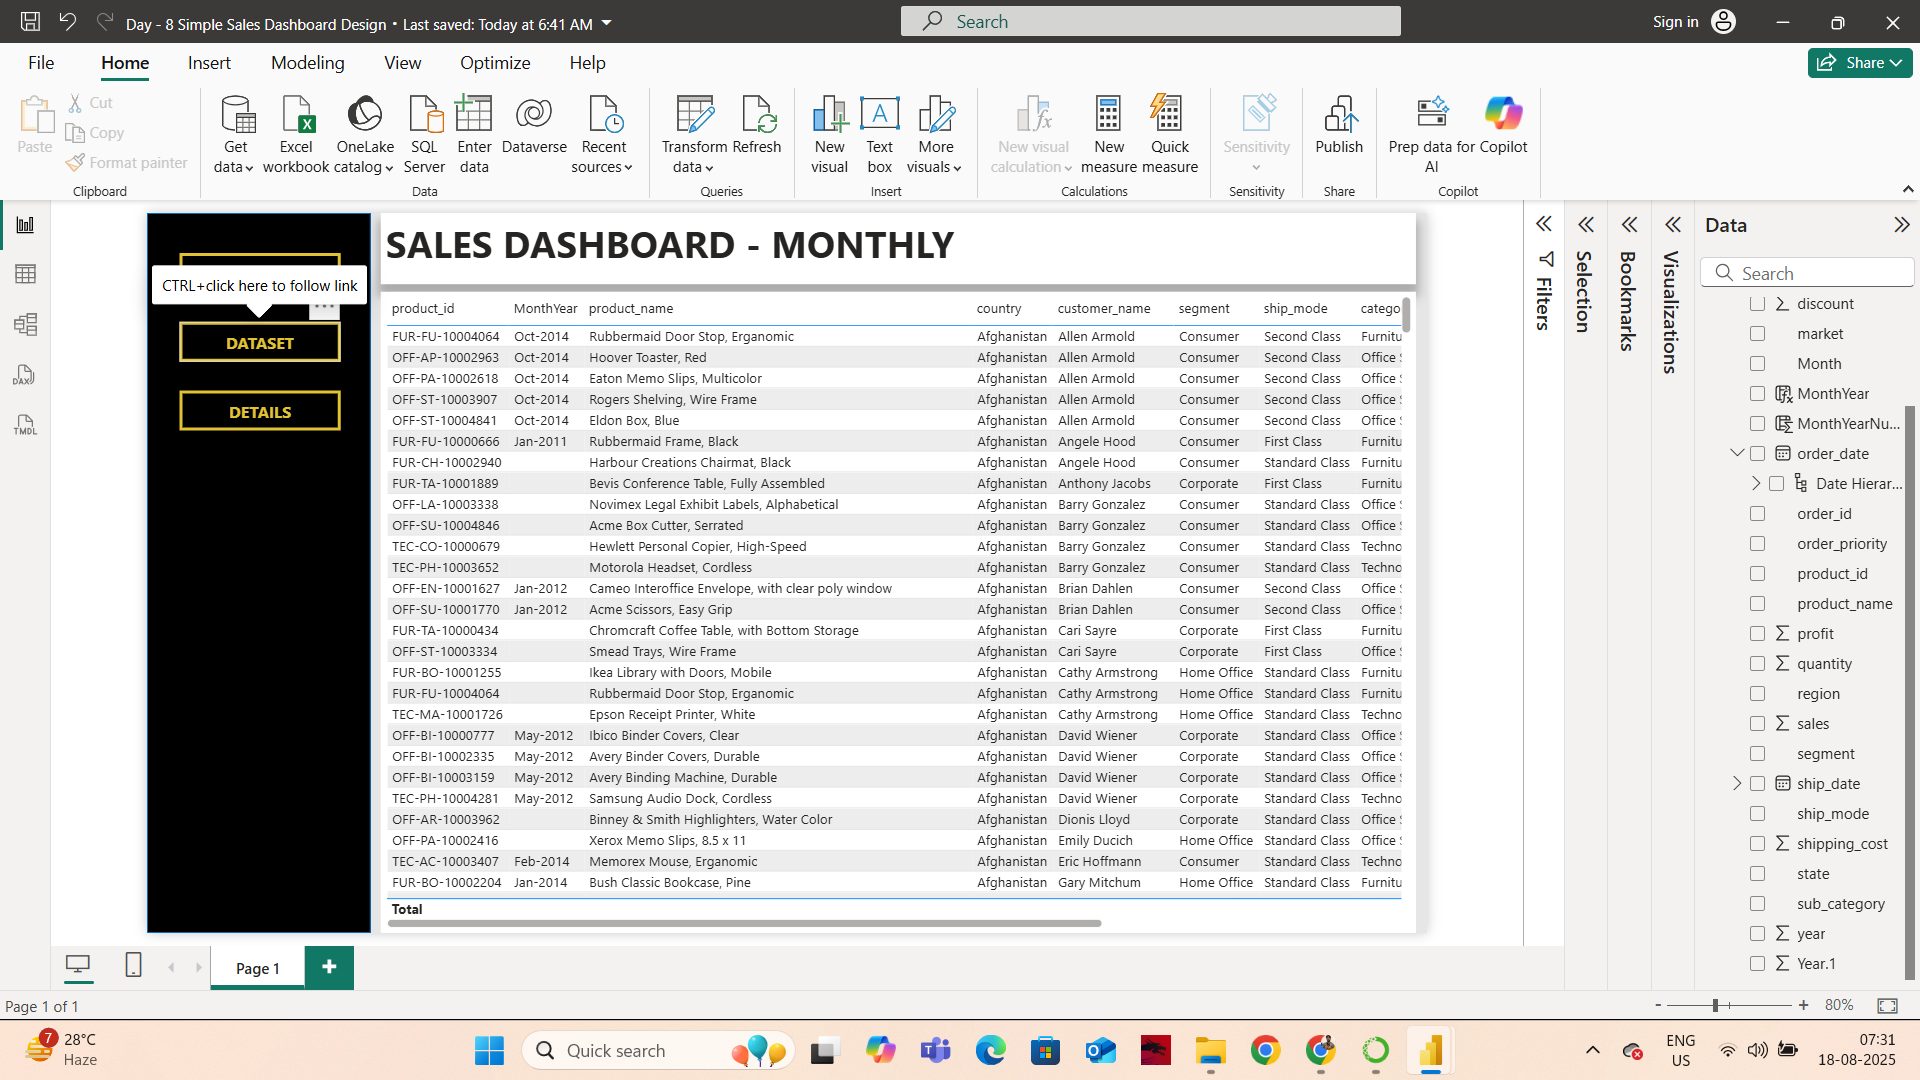

What the dashboard file says about the page in this screenshot:
{"tool":"powerbi","page":{"name":"Page 1","canvas":[1280,720],"ordinal":0},"visuals":[{"type":"shape","box":[0,0,223.8,720],"z":0},{"type":"actionButton","box":[32.5,40,161.2,40],"z":1000},{"type":"actionButton","box":[32.5,108.8,161.2,40],"z":2000},{"type":"textbox","box":[233.8,0,1035,71.2],"z":3000},{"type":"actionButton","box":[32.5,177.5,161.2,40],"z":4000},{"type":"textbox","box":[233.8,413.8,506.2,298.8],"z":7000},{"type":"textbox","box":[233.8,92.5,506.2,298.8],"z":8000},{"type":"textbox","box":[750,413.8,518.8,298.8],"z":9000},{"type":"textbox","box":[752.5,92.5,516.2,298.8],"z":10000}]}

Visuals, with their boxes on the page's 1280x720 design canvas (x1, y1, x2, y2). These are canvas units, not pixel positions in the 1920x1080 screenshot, which may show the page scaled, cropped or inside an application window:
shape: 0,0,224,720
actionButton: 32,40,194,80
actionButton: 32,109,194,149
textbox: 234,0,1269,71
actionButton: 32,178,194,218
textbox: 234,414,740,713
textbox: 234,92,740,391
textbox: 750,414,1269,713
textbox: 752,92,1269,391
